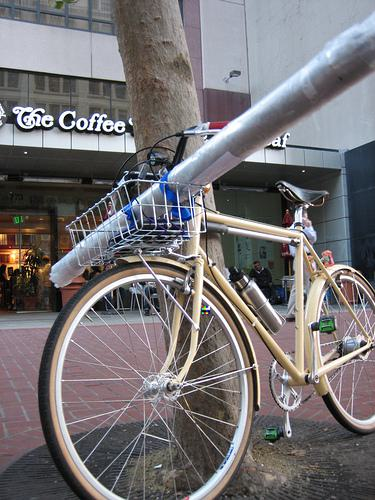bottle: (229, 265, 286, 337)
car: (37, 120, 375, 500)
person: (285, 206, 318, 324), (248, 262, 276, 306)
pottedplant: (13, 241, 51, 312)
